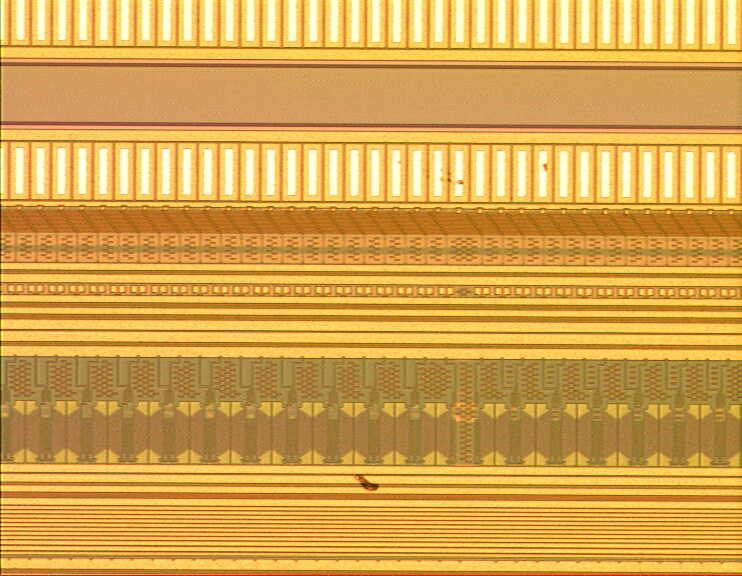PO CONTAMINATION: (352, 153, 558, 499)
